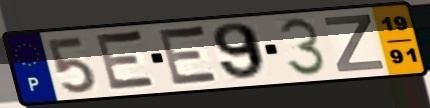3: (277, 16, 329, 79)
5: (44, 34, 101, 95)
9: (212, 21, 270, 83)
E: (156, 23, 223, 88), (93, 28, 160, 93)
Z: (321, 13, 388, 75)
